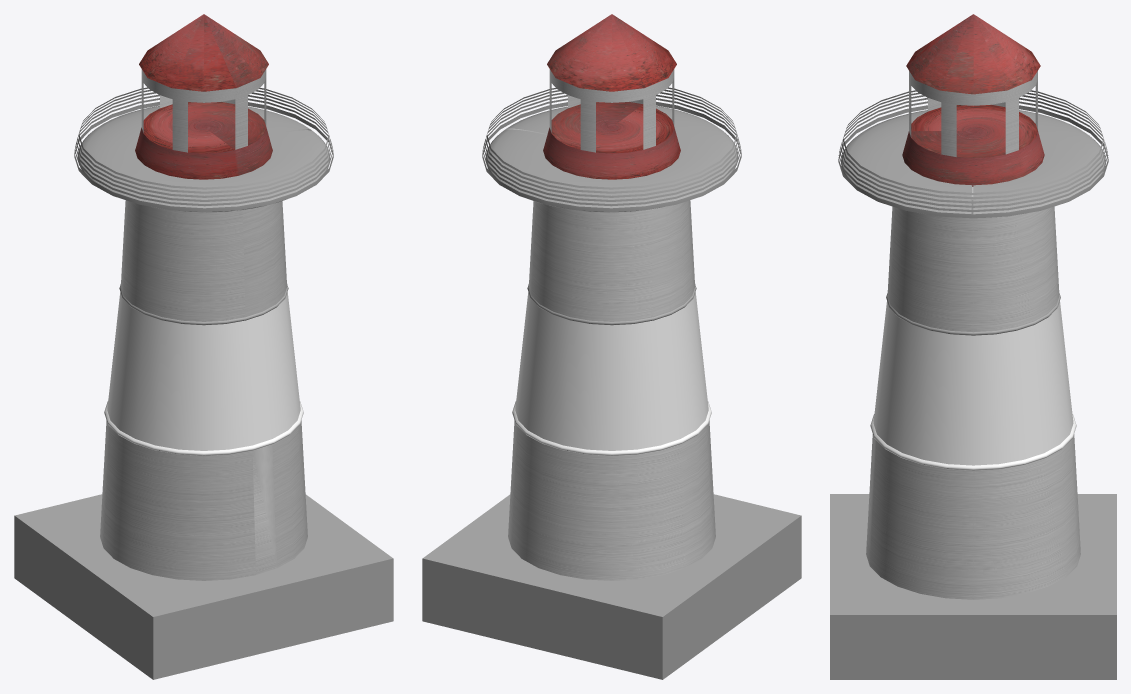
The model's file is lighthouse.obj.
The picture shows the model from 3 angles, left to right: view 1: azimuth 30°, elevation 25°; view 2: azimuth 150°, elevation 25°; view 3: azimuth 270°, elevation 25°; orthographic projection. The views are drawn at different scales.
Parts seen in each view (by area): view 1: Box, Cylinder, Cylinder1, Cylinder2, Torus, Cylinder3, Torus1, Cone, Cylinder4, Cylinder5, Torus2, Torus3; view 2: Box, Cylinder, Cylinder1, Cylinder2, Torus, Cylinder3, Torus1, Cone, Cylinder4, Cylinder5, Torus2, Torus3; view 3: Box, Cylinder, Cylinder1, Cylinder2, Torus, Cylinder3, Torus1, Cone, Cylinder4, Cylinder5, Torus2, Torus3.
Boxes of the visible parts, left/top/right/bottom form: Box: left=14, top=494, right=393, bottom=679; Cylinder: left=100, top=420, right=307, bottom=580; Cylinder1: left=107, top=292, right=300, bottom=450; Cylinder2: left=120, top=200, right=287, bottom=321; Torus: left=77, top=106, right=330, bottom=212; Cylinder3: left=135, top=102, right=272, bottom=179; Torus1: left=74, top=87, right=333, bottom=212; Cone: left=139, top=14, right=268, bottom=91; Cylinder4: left=141, top=77, right=266, bottom=152; Cylinder5: left=141, top=69, right=266, bottom=102; Torus2: left=104, top=401, right=303, bottom=455; Torus3: left=119, top=284, right=288, bottom=325; Box: left=422, top=494, right=801, bottom=679; Cylinder: left=508, top=420, right=715, bottom=580; Cylinder1: left=515, top=292, right=708, bottom=450; Cylinder2: left=528, top=200, right=695, bottom=321; Torus: left=485, top=106, right=738, bottom=212; Cylinder3: left=543, top=102, right=680, bottom=179; Torus1: left=482, top=87, right=741, bottom=212; Cone: left=547, top=14, right=676, bottom=91; Cylinder4: left=549, top=77, right=674, bottom=152; Cylinder5: left=549, top=69, right=674, bottom=102; Torus2: left=512, top=401, right=711, bottom=455; Torus3: left=527, top=284, right=696, bottom=325; Box: left=830, top=494, right=1116, bottom=679; Cylinder: left=866, top=434, right=1080, bottom=599; Cylinder1: left=873, top=301, right=1073, bottom=465; Cylinder2: left=887, top=187, right=1059, bottom=332; Torus: left=841, top=110, right=1105, bottom=217; Cylinder3: left=902, top=104, right=1044, bottom=186; Torus1: left=838, top=90, right=1108, bottom=218; Cone: left=906, top=14, right=1040, bottom=94; Cylinder4: left=909, top=79, right=1037, bottom=156; Cylinder5: left=909, top=71, right=1037, bottom=105; Torus2: left=870, top=414, right=1076, bottom=470; Torus3: left=886, top=293, right=1060, bottom=335.
Size of the model in its own units: 2 by 4.66 by 2.
Materials: 5 (2 with a texture image).
